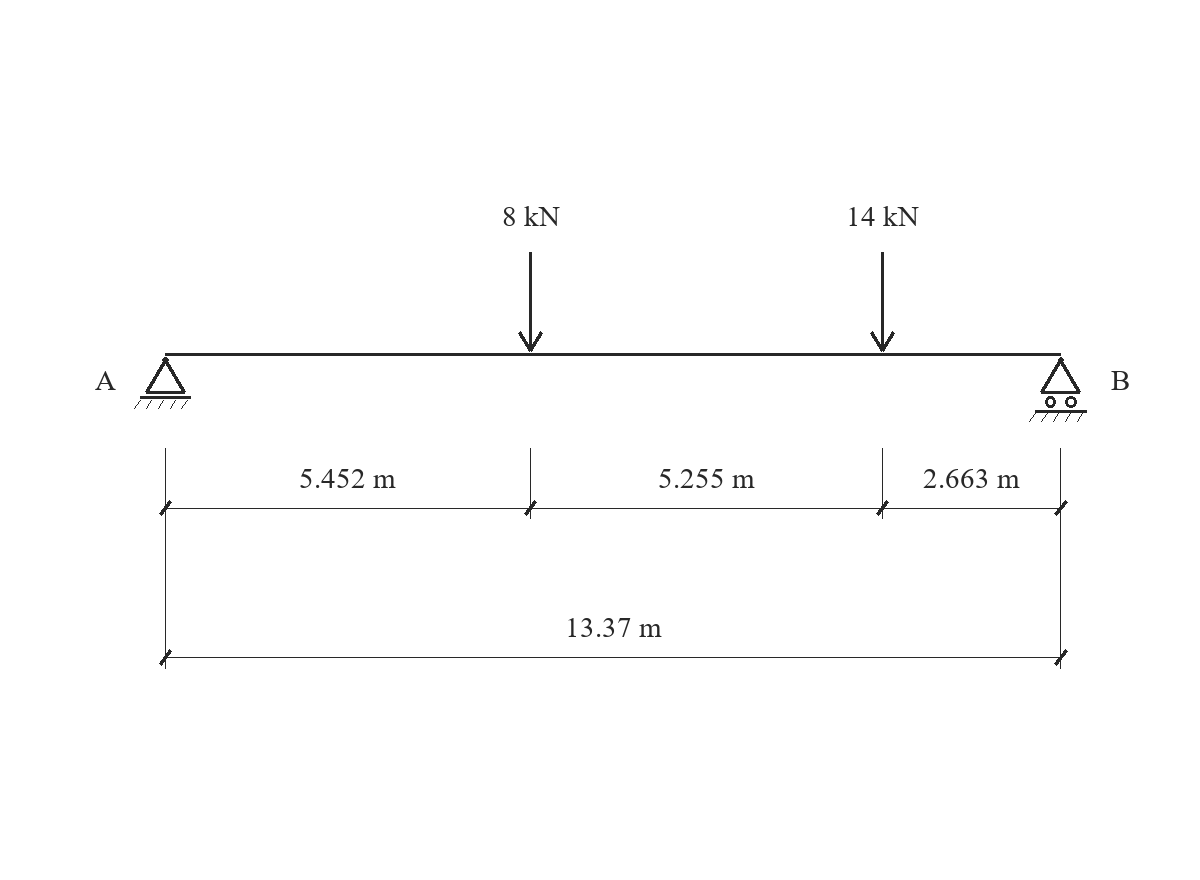pin_support: (134, 357, 191, 409)
point_load: (518, 252, 543, 352), (870, 252, 895, 352)
roller_support: (1029, 357, 1087, 422)
